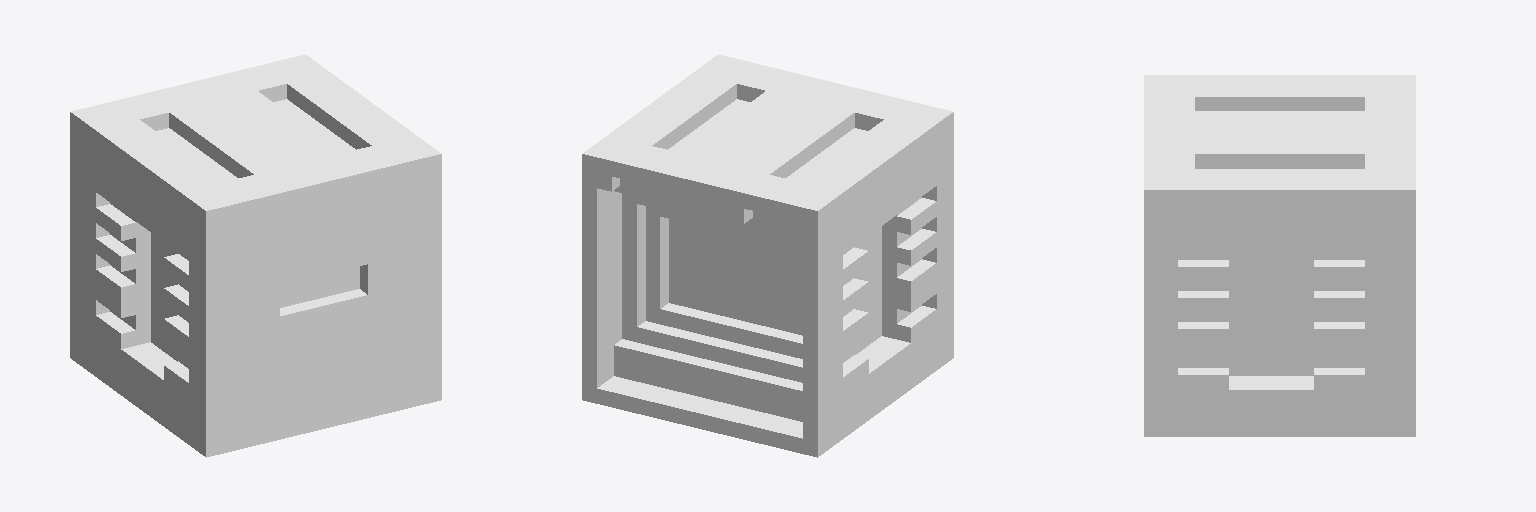
The model's file is BrickCut2.obj.
3 renders of one model, left to right at view 1: azimuth 30°, elevation 25°; view 2: azimuth 150°, elevation 25°; view 3: azimuth 270°, elevation 25°, orthographic.
Size of the model in its own units: 16 by 16 by 16.